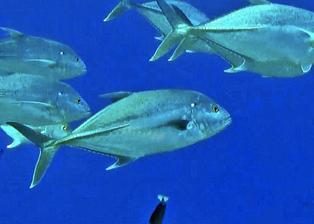Carangidae -Jacks-: (3, 83, 231, 191), (140, 0, 314, 72)
